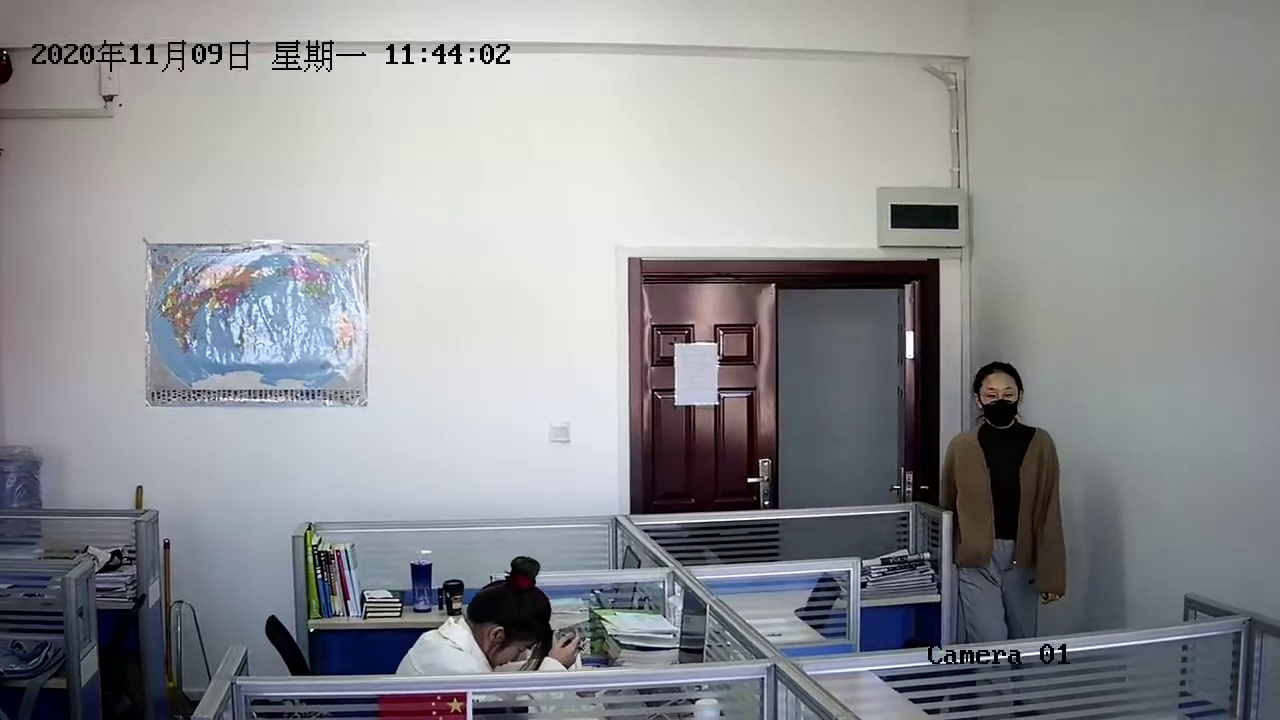mask: (974, 360, 1025, 432)
